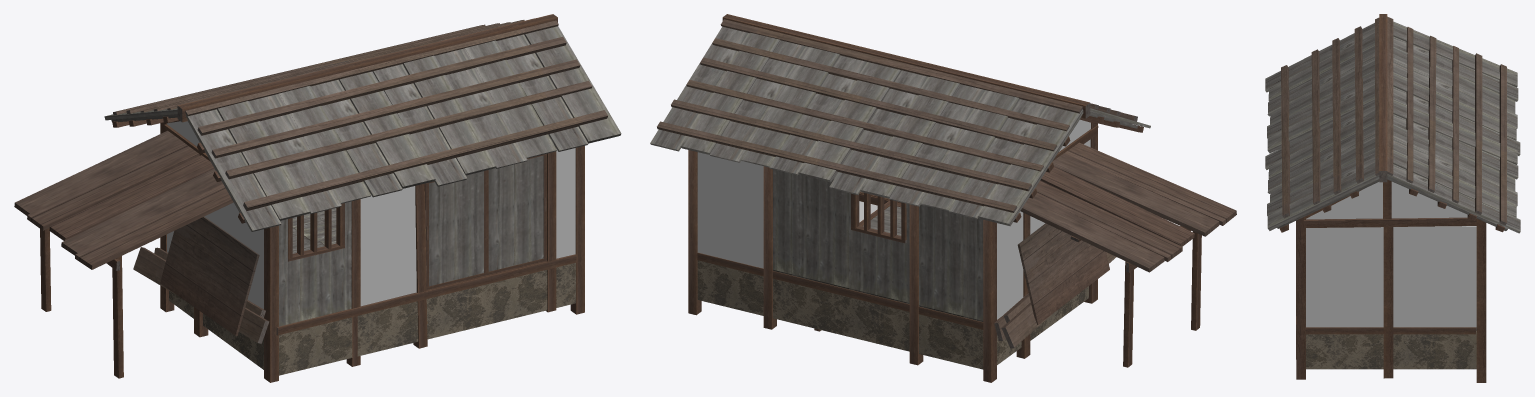
The model's file is jov_hovel.fbx.
3 renders of one model, left to right at view 1: azimuth 30°, elevation 25°; view 2: azimuth 150°, elevation 25°; view 3: azimuth 270°, elevation 25°, orthographic. The views are drawn at different scales.
Visible parts, largest first — view 1: jov_hovel_roof2, jov_hovel_wall, jov_hovel_raincover, jov_hovel_board, jov_hovel_door_r, jov_hovel_door_l; view 2: jov_hovel_roof2, jov_hovel_wall, jov_hovel_raincover, jov_hovel_board; view 3: jov_hovel_roof2, jov_hovel_wall.
Part boxes in pixels (left/top/right/bottom): jov_hovel_roof2: left=104, top=14, right=621, bottom=231; jov_hovel_wall: left=160, top=120, right=584, bottom=382; jov_hovel_raincover: left=14, top=130, right=233, bottom=378; jov_hovel_board: left=133, top=216, right=269, bottom=343; jov_hovel_door_r: left=424, top=170, right=487, bottom=289; jov_hovel_door_l: left=487, top=153, right=546, bottom=274; jov_hovel_roof2: left=650, top=14, right=1150, bottom=226; jov_hovel_wall: left=688, top=119, right=1098, bottom=382; jov_hovel_raincover: left=1020, top=142, right=1236, bottom=367; jov_hovel_board: left=994, top=223, right=1116, bottom=348; jov_hovel_roof2: left=1265, top=14, right=1520, bottom=233; jov_hovel_wall: left=1296, top=179, right=1486, bottom=382.
Size of the model in its own units: 1042 by 517 by 541.
